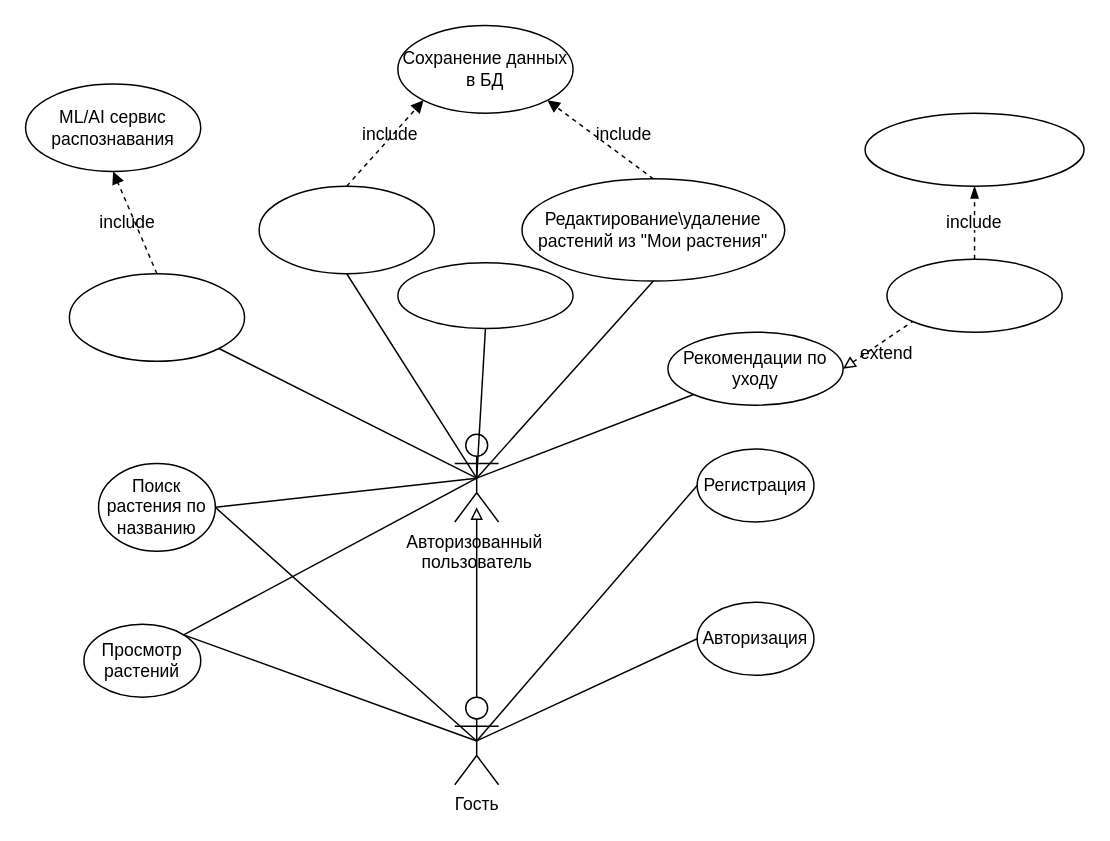
This 1110x841 diagram has some shape labels left out. The shapes that lost their labels are listed below. From the top down, each one's centre as x and y in pixels, then its label:
(974,149): Получение прогноза погоды
(346,229): Добавление растений в "Мои растения"
(484,294): Просмотр моих растений
(973,295): Уведомления о поливе
(156,316): Распознование растений по фото
